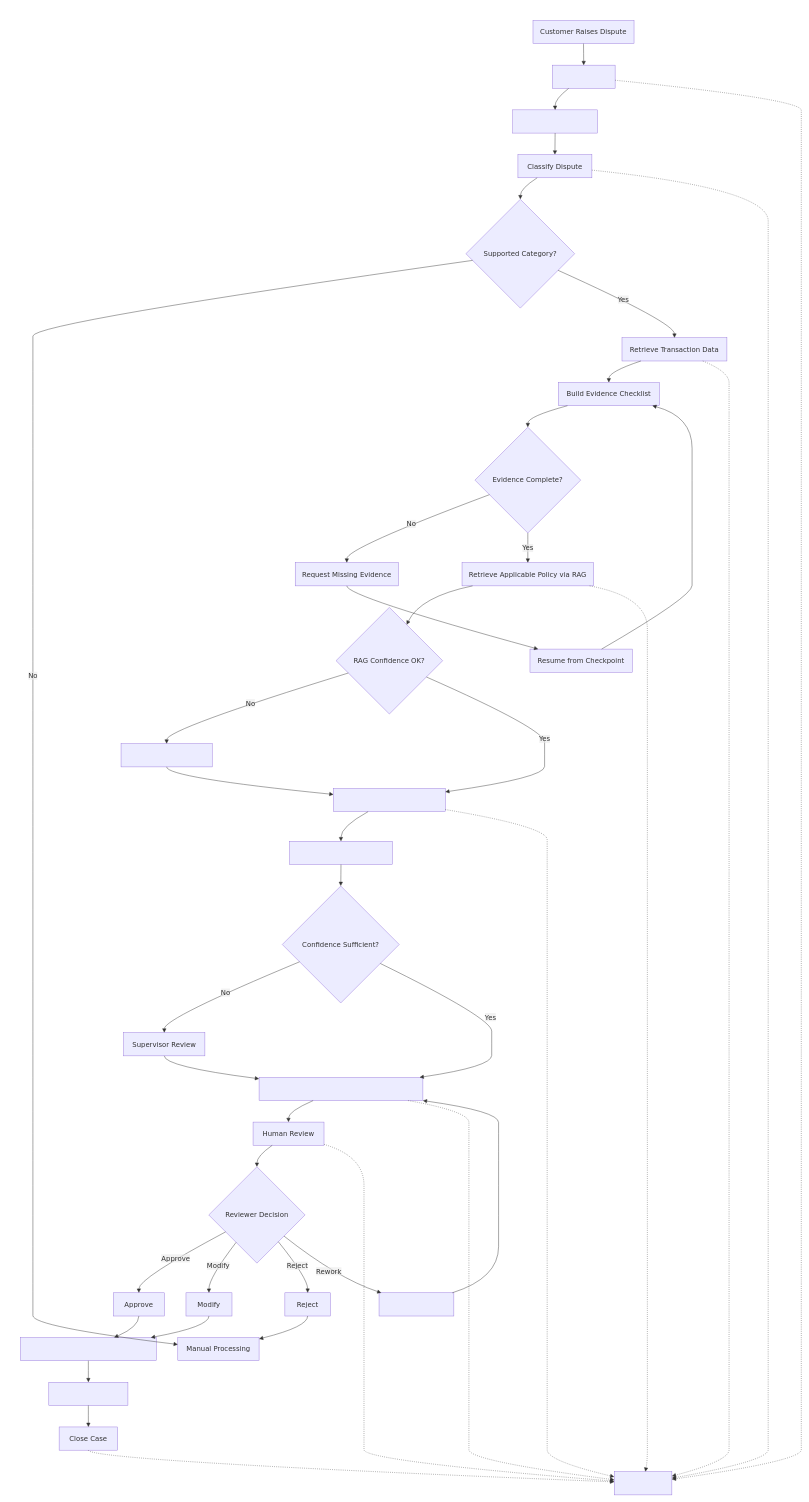
The diagram is 809 pixels wide and 1502 high, and some of its shapes have lost their labels. The box of each missing label's shape, as (x1, y1, x2, y2) in pixels:
Assess Risk & Confidence: (289, 841, 392, 865)
Audit Trail: (614, 1471, 672, 1495)
Create Case: (552, 65, 615, 88)
Execute Deterministic Rules: (333, 788, 445, 812)
Generate Customer Communication: (20, 1337, 156, 1361)
Generate Evidence-Backed Recommendation: (259, 1077, 423, 1101)
Human Policy Review: (121, 743, 212, 767)
Intake & Validation: (512, 109, 597, 133)
Request Rework: (379, 1292, 454, 1316)
Send Notification: (48, 1382, 128, 1405)
